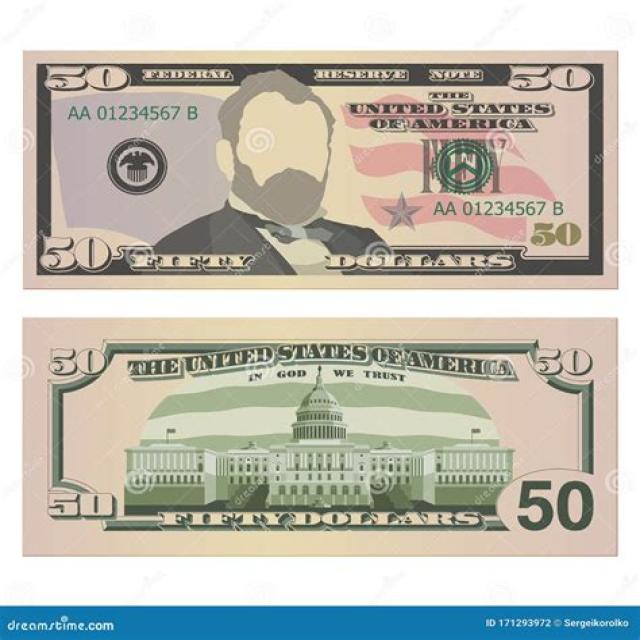Fifty: (21, 316, 618, 558), (21, 50, 618, 288)
